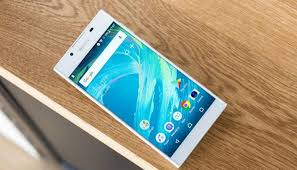sony: (54, 6, 227, 167)
